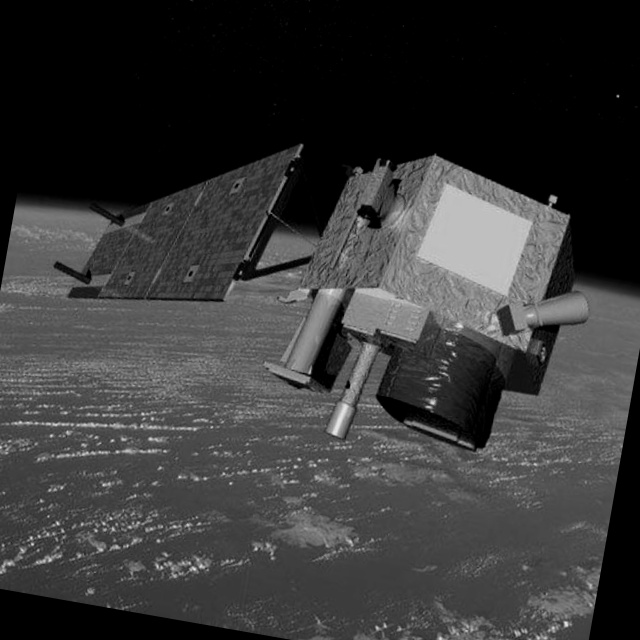medium_debris: (32, 80, 609, 501)
